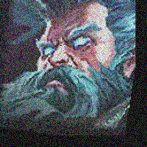Zilean: (1, 1, 141, 136)
